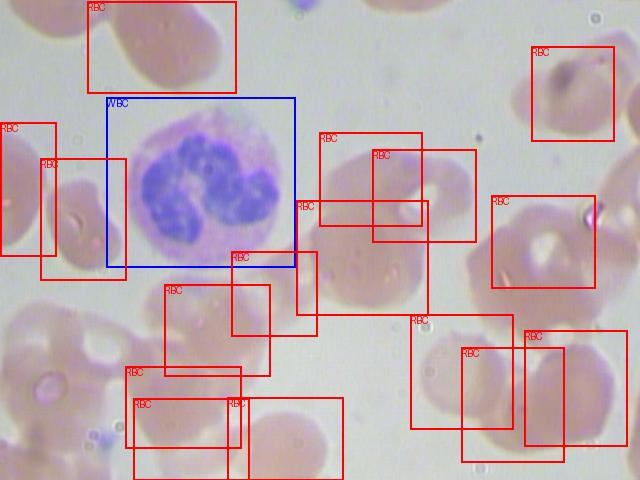RBC: (296, 200, 428, 315), (87, 1, 236, 93), (524, 330, 627, 446), (410, 314, 513, 429), (461, 347, 564, 462), (40, 158, 126, 280), (164, 284, 270, 376), (319, 132, 422, 226), (372, 149, 476, 242), (491, 195, 595, 288), (227, 397, 343, 480), (133, 398, 249, 480), (125, 366, 241, 448), (531, 46, 614, 141), (0, 122, 56, 256), (231, 251, 317, 336)
WBC: (106, 97, 295, 267)
